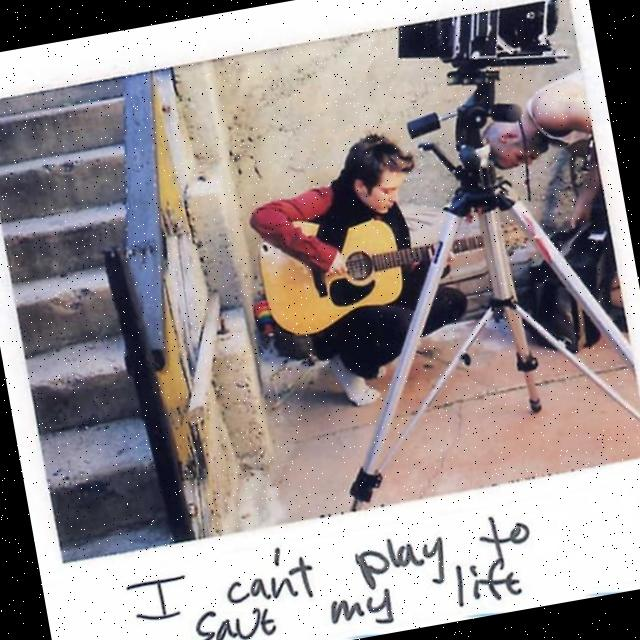guitar: (248, 180, 546, 368)
